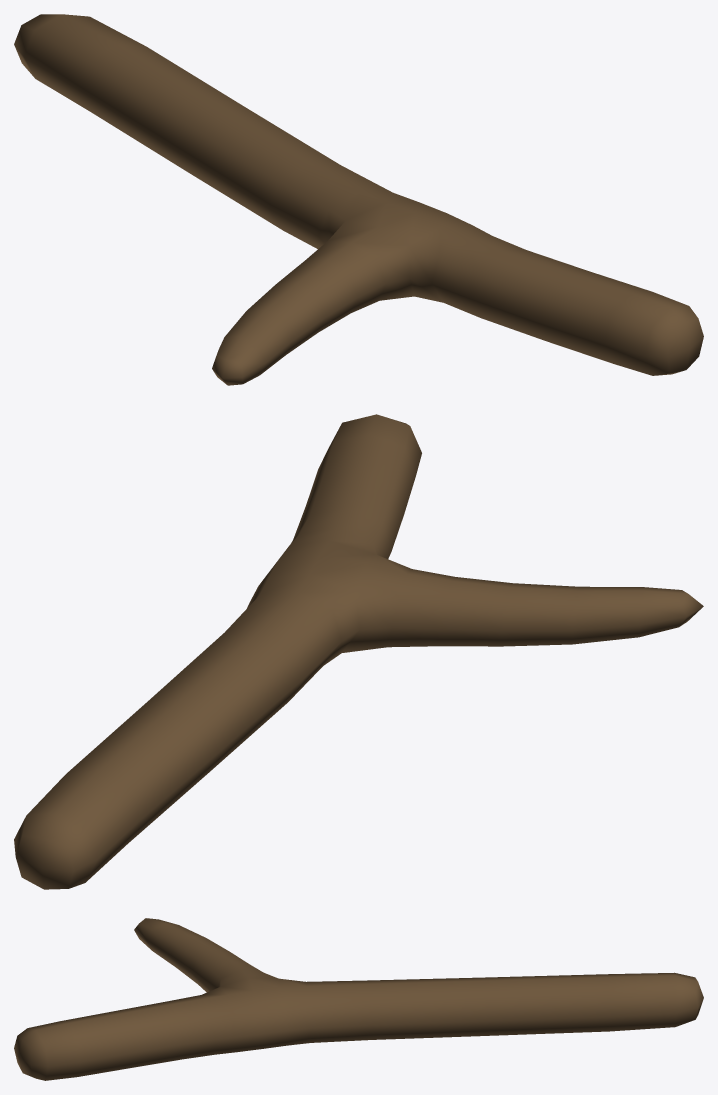
Rendered from twig.glb.
3 renders of one model, top to bottom at view 1: azimuth 30°, elevation 25°; view 2: azimuth 150°, elevation 25°; view 3: azimuth 270°, elevation 25°, orthographic. The views are drawn at different scales.
Parts seen in each view (by area): view 1: Plane; view 2: Plane; view 3: Plane.
Part boxes in pixels (bbox=[...]): Plane: bbox=[14, 14, 703, 385]; Plane: bbox=[14, 414, 703, 889]; Plane: bbox=[14, 918, 703, 1080].
Size of the model in its own units: 1.05 by 0.1837 by 2.16.
